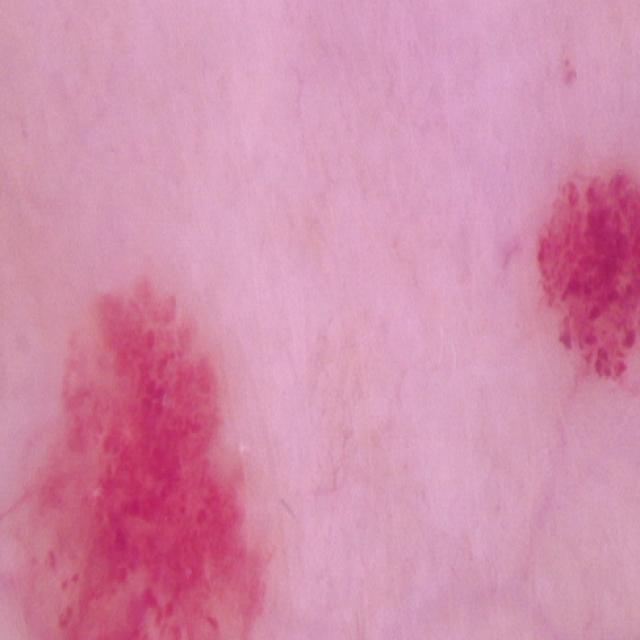Vascular Lesions: (0, 283, 304, 640), (524, 140, 640, 397)
